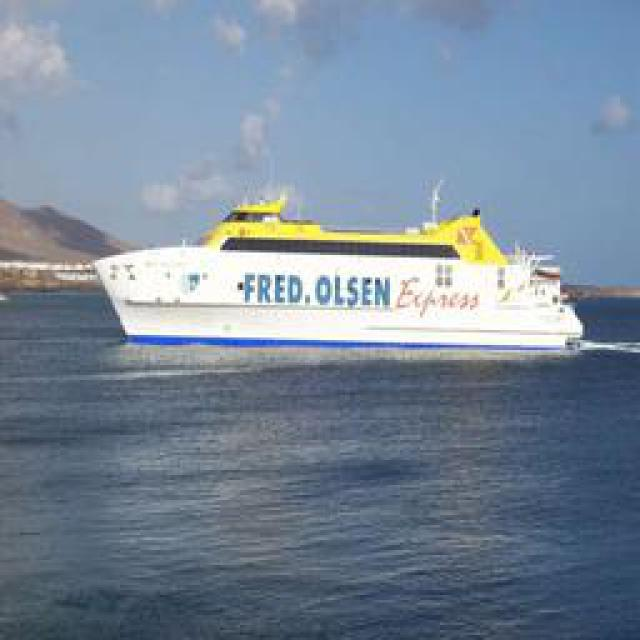Ship: (99, 191, 584, 356)
